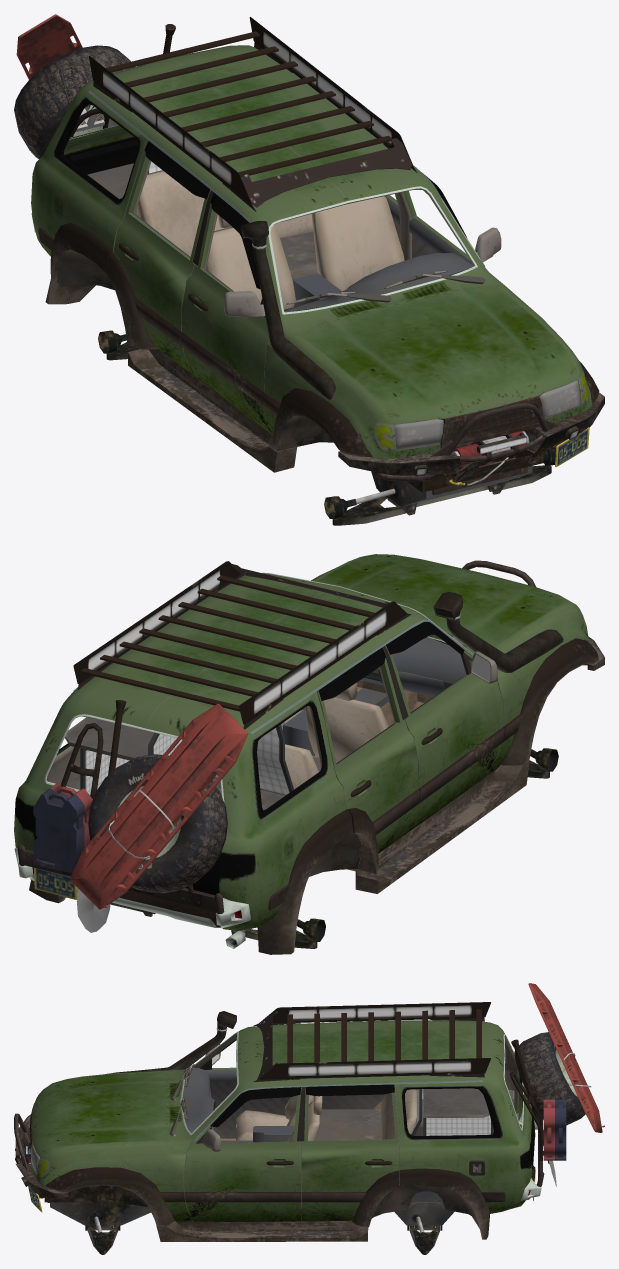
File: Body SUV.fbx
3 views of the same model, one above another, from view 1: azimuth 30°, elevation 25°; view 2: azimuth 150°, elevation 25°; view 3: azimuth 270°, elevation 25° (orthographic). The views are drawn at different scales.
Parts seen in each view (by area): view 1: Body SUV; view 2: Body SUV; view 3: Body SUV.
Boxes of the visible parts, x1,y1,x2,y2 form: Body SUV: [14, 14, 604, 525]; Body SUV: [14, 554, 604, 954]; Body SUV: [14, 983, 604, 1254].
Bounding box in the file's own units: 1.85 × 1.84 × 4.83.
Materials: 2 (2 with a texture image).
